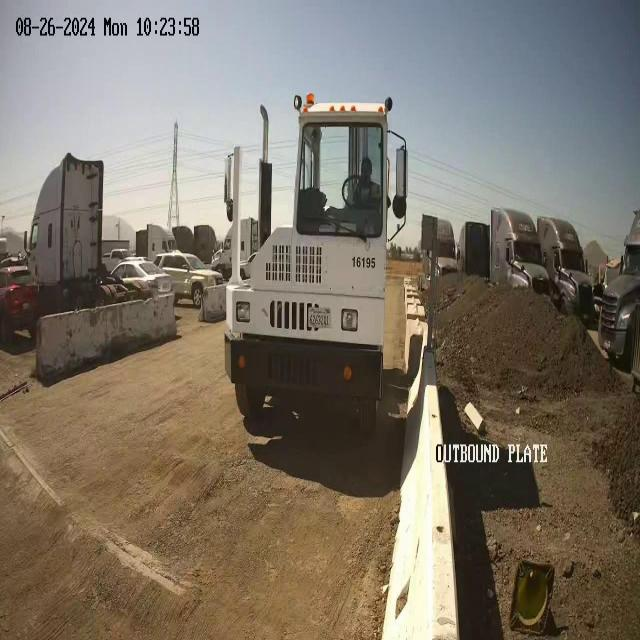BOBTAIL: (222, 92, 408, 433)
